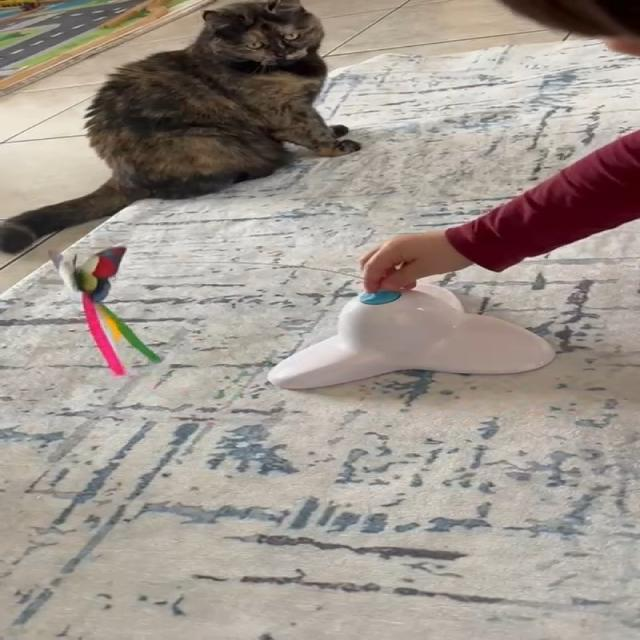authorized: (0, 0, 361, 254)
